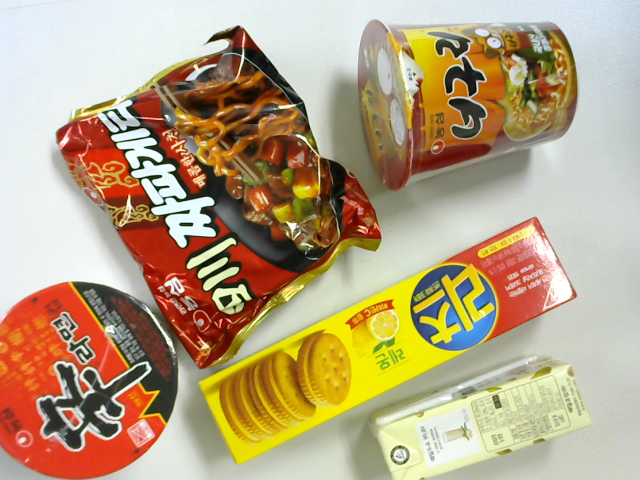99.89_Soymilk: (371, 356, 583, 480)
Raccoon: (355, 20, 583, 194)
Ritz_Remon_96g: (197, 216, 579, 460)
Sichuan_Chapaghetti: (49, 26, 383, 366)
Sinramen_small: (3, 282, 181, 476)
